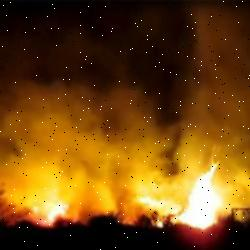fire: (26, 152, 250, 229)
